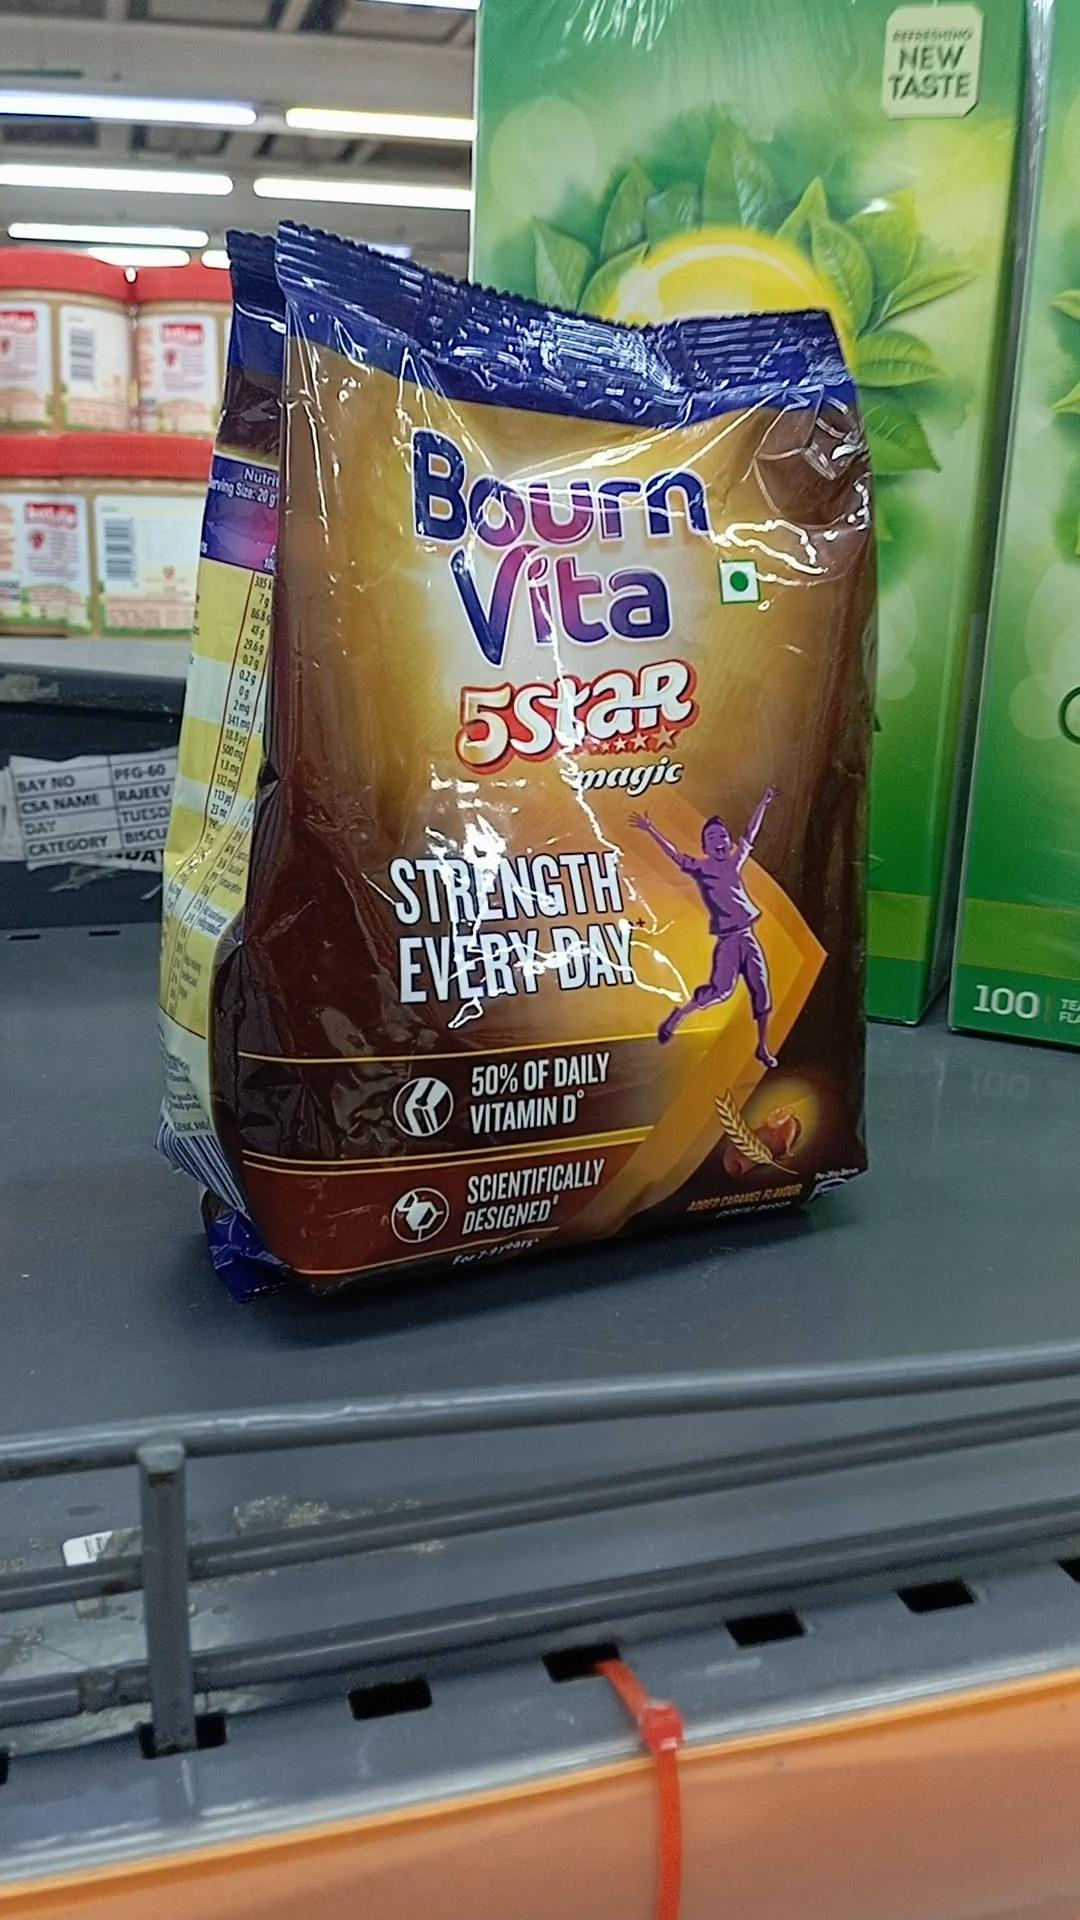BOURN_VITA_FIVE_STAR_MAGIC_500_G_POUCH: (274, 233, 872, 1280)
